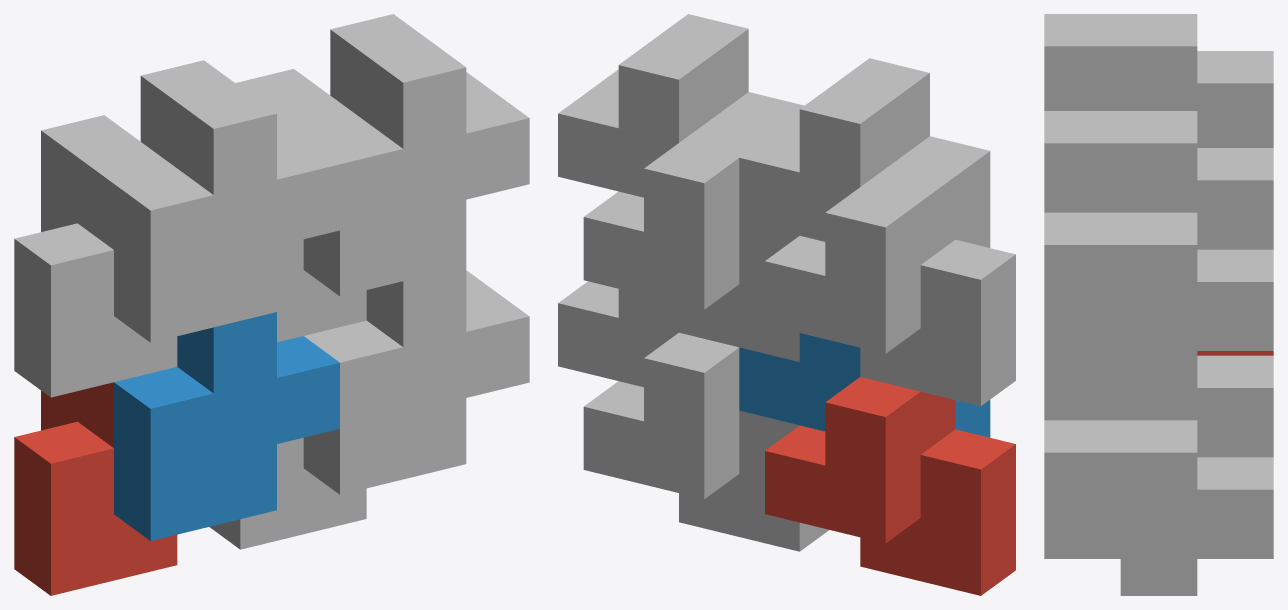
File: tiling.obj
3 views of the same model, side by side, from view 1: azimuth 30°, elevation 25°; view 2: azimuth 150°, elevation 25°; view 3: azimuth 270°, elevation 25° (orthographic). The views are drawn at different scales.
Parts seen in each view (by area): view 1: copy_1_domain_4, copy_1_domain_8, copy_1_domain_2, copy_1_domain_6, copy_1_domain_3, copy_1_domain_1, copy_1_domain_7, copy_1_domain_5; view 2: copy_1_domain_3, copy_1_domain_1, copy_1_domain_7, copy_1_domain_5, copy_1_domain_4, copy_1_domain_8, copy_1_domain_6, copy_1_domain_2; view 3: copy_1_domain_8, copy_1_domain_6, copy_1_domain_5, copy_1_domain_7, copy_1_domain_4, copy_1_domain_3, copy_1_domain_1.
Boxes of the visible parts, x1,y1,x2,y2 form: copy_1_domain_4: (114, 60, 339, 342); copy_1_domain_8: (303, 14, 529, 296); copy_1_domain_2: (114, 312, 339, 540); copy_1_domain_6: (303, 266, 529, 494); copy_1_domain_3: (14, 115, 177, 397); copy_1_domain_1: (14, 382, 177, 595); copy_1_domain_7: (235, 69, 366, 342); copy_1_domain_5: (209, 437, 366, 549); copy_1_domain_3: (765, 161, 1015, 406); copy_1_domain_1: (765, 377, 1015, 595); copy_1_domain_7: (583, 117, 799, 361); copy_1_domain_5: (583, 332, 828, 551); copy_1_domain_4: (739, 58, 990, 247); copy_1_domain_8: (558, 14, 804, 197); copy_1_domain_6: (558, 281, 678, 387); copy_1_domain_2: (739, 333, 990, 437); copy_1_domain_8: (1044, 111, 1197, 350); copy_1_domain_6: (1044, 351, 1197, 558); copy_1_domain_5: (1120, 355, 1273, 595); copy_1_domain_7: (1120, 148, 1273, 350); copy_1_domain_4: (1044, 14, 1197, 110); copy_1_domain_3: (1197, 51, 1273, 147); copy_1_domain_1: (1197, 351, 1273, 355).
Size of the model in its own units: 7 by 7 by 3.
